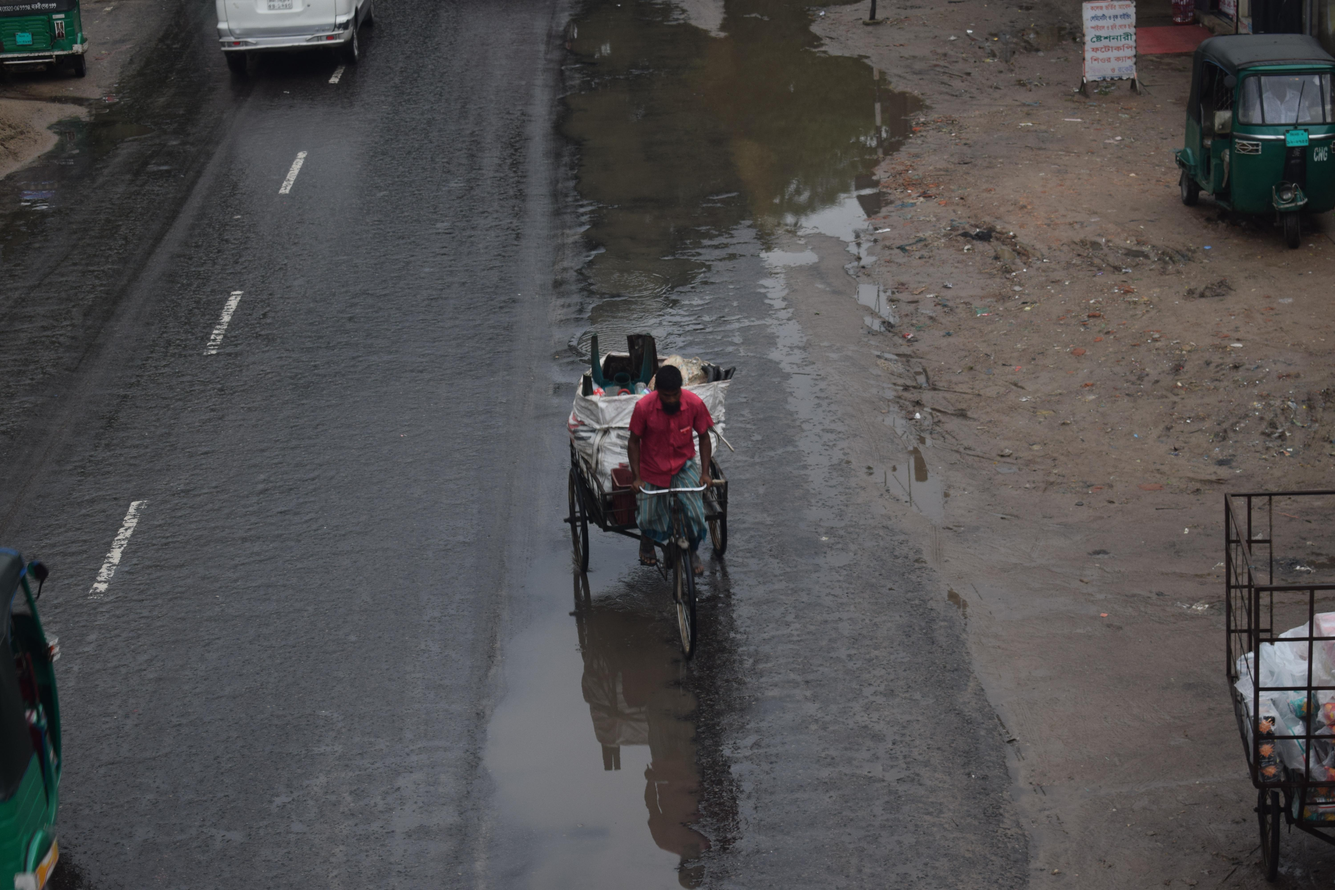Car: (516, 282, 840, 700)
